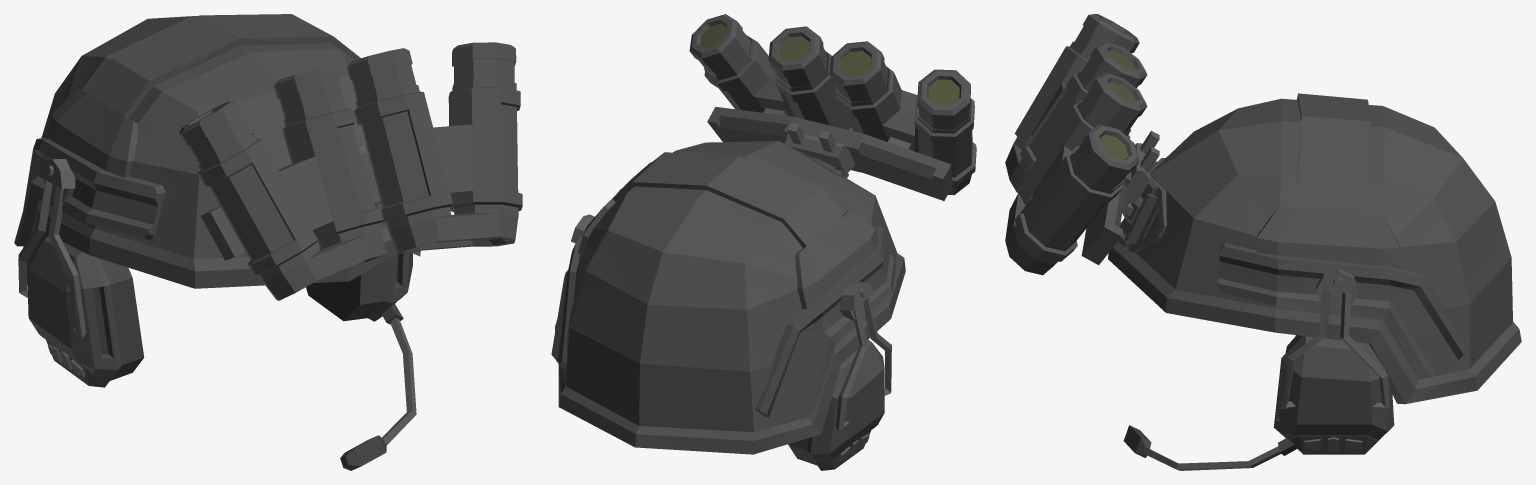
File: Helmet_01_03_SM.FBX
3 renders of one model, left to right at view 1: azimuth 30°, elevation 25°; view 2: azimuth 150°, elevation 25°; view 3: azimuth 270°, elevation 25°, orthographic. The views are drawn at different scales.
Visible parts, largest first — view 1: Helmet_01_03_SM; view 2: Helmet_01_03_SM; view 3: Helmet_01_03_SM.
Part boxes in pixels (bbox=[...]): Helmet_01_03_SM: bbox=[14, 14, 522, 470]; Helmet_01_03_SM: bbox=[551, 14, 976, 470]; Helmet_01_03_SM: bbox=[1005, 14, 1521, 470].
Size of what is drawn, in the model's own units: 26.45 by 37.88 by 30.49.
